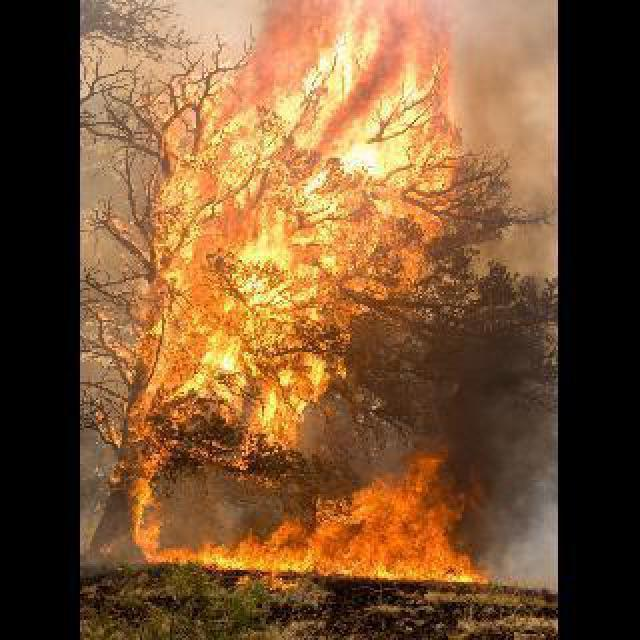Fire: (114, 2, 488, 570)
